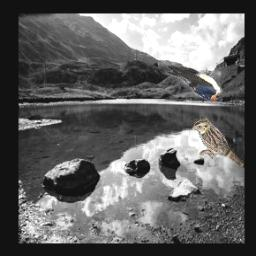Sparrow: (191, 116, 245, 166)
Swallow: (159, 60, 223, 102)
